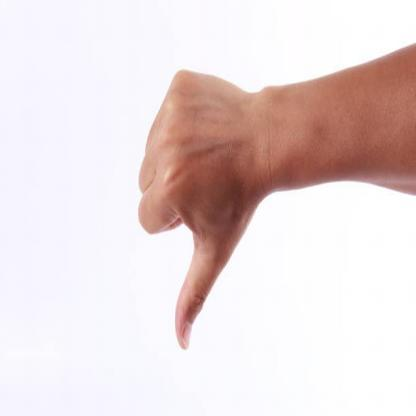thumb_down: (138, 66, 260, 350)
